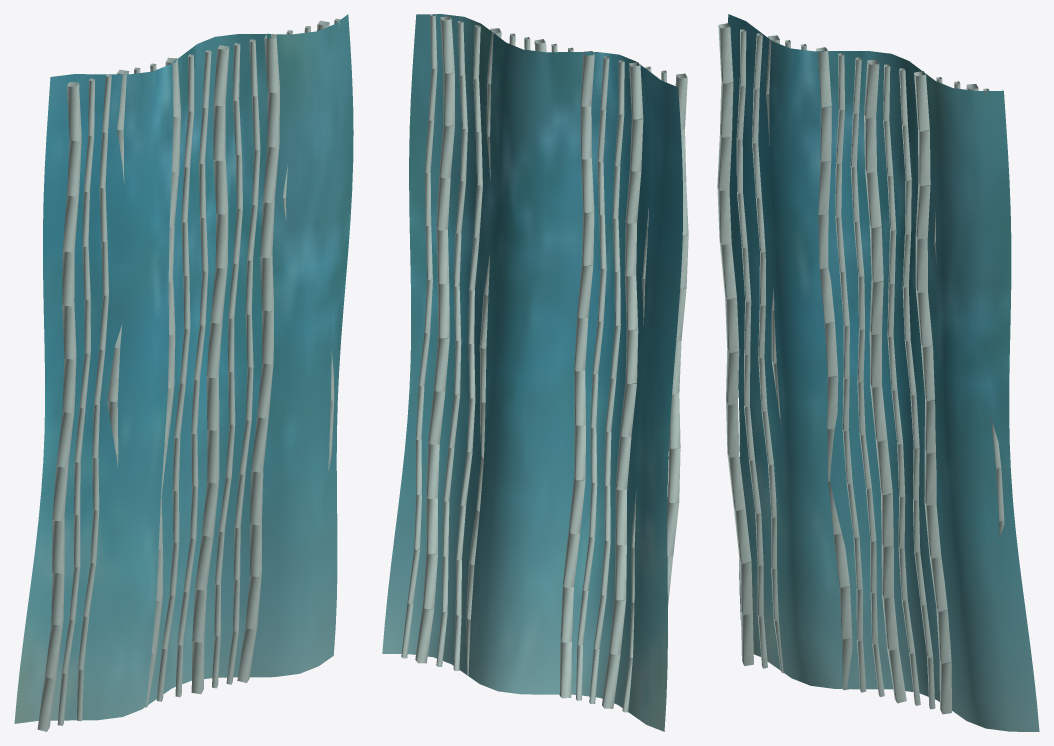
The model's file is Waterfall.glb.
3 renders of one model, left to right at view 1: azimuth 30°, elevation 25°; view 2: azimuth 150°, elevation 25°; view 3: azimuth 330°, elevation 25°, orthographic. The views are drawn at different scales.
Visible parts, largest first — view 1: Waterfall; view 2: Waterfall; view 3: Waterfall.
Part boxes in pixels (bbox=[...]): Waterfall: bbox=[14, 14, 353, 731]; Waterfall: bbox=[382, 14, 688, 731]; Waterfall: bbox=[717, 14, 1039, 731].
Size of the model in its own units: 2.69 by 5.51 by 0.68.
Materials: 1 (1 with a texture image).
